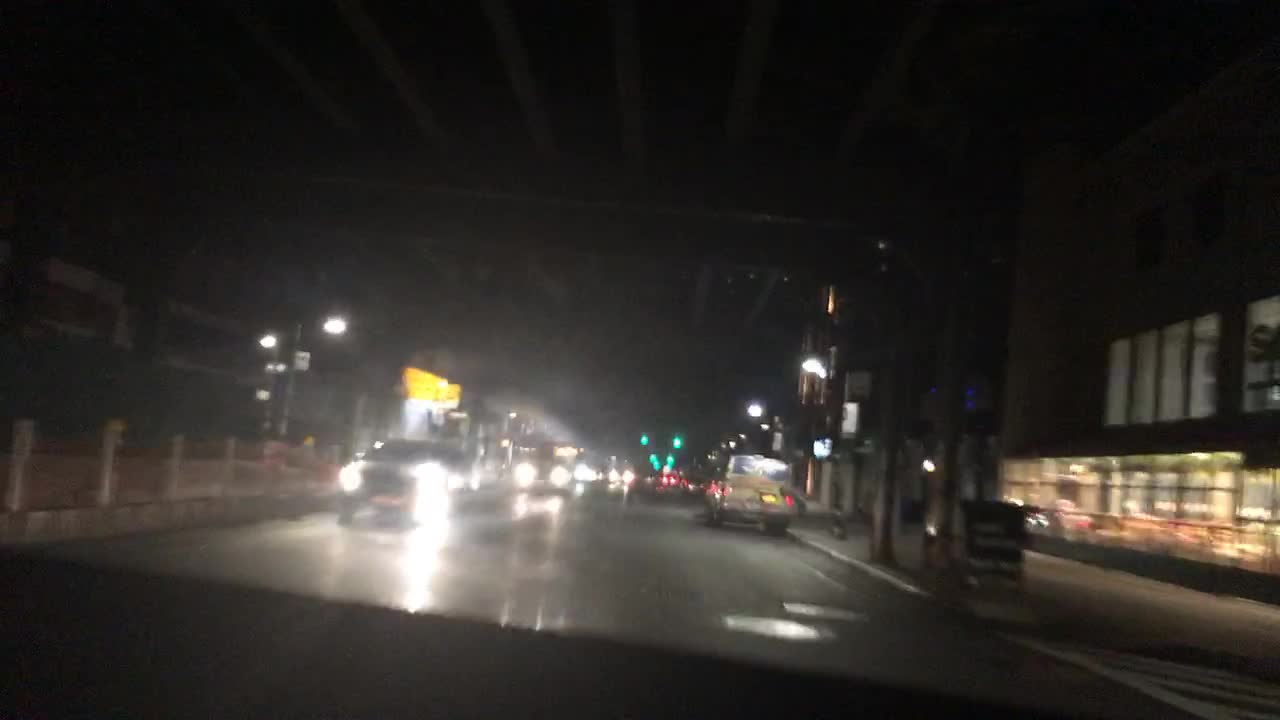car: (336, 439, 479, 523), (707, 454, 801, 531), (509, 456, 571, 489), (606, 465, 638, 489), (574, 461, 603, 482), (685, 471, 709, 494), (657, 468, 681, 490), (639, 472, 660, 488)
traffic light: (670, 434, 682, 450), (643, 453, 655, 467), (663, 452, 674, 467), (641, 433, 648, 448)
